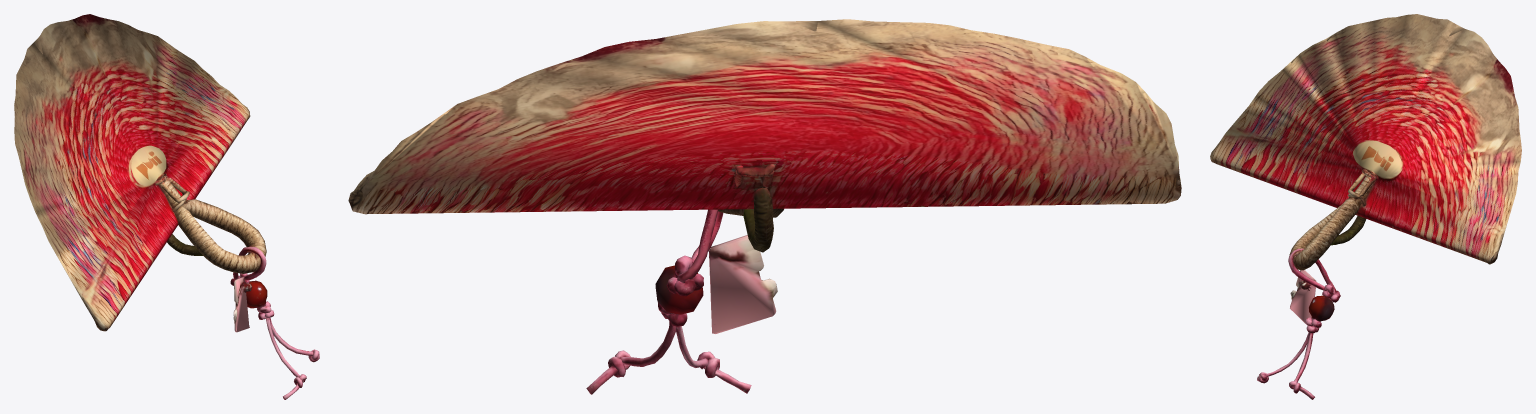
3 views of the same model, side by side, from view 1: azimuth 30°, elevation 25°; view 2: azimuth 150°, elevation 25°; view 3: azimuth 270°, elevation 25° (orthographic). The views are drawn at different scales.
Visible parts, largest first — view 1: tripo_node_87653c6a-fdd8-4597-91cc-3004849f2191.001; view 2: tripo_node_87653c6a-fdd8-4597-91cc-3004849f2191.001; view 3: tripo_node_87653c6a-fdd8-4597-91cc-3004849f2191.001.
Boxes of the visible parts, bbox=[...] form: tripo_node_87653c6a-fdd8-4597-91cc-3004849f2191.001: bbox=[14, 14, 319, 399]; tripo_node_87653c6a-fdd8-4597-91cc-3004849f2191.001: bbox=[348, 19, 1181, 394]; tripo_node_87653c6a-fdd8-4597-91cc-3004849f2191.001: bbox=[1210, 14, 1521, 399].
Bounding box in the file's own units: 0.8465 × 0.7952 × 0.7669.
1 material, 1 textured.
